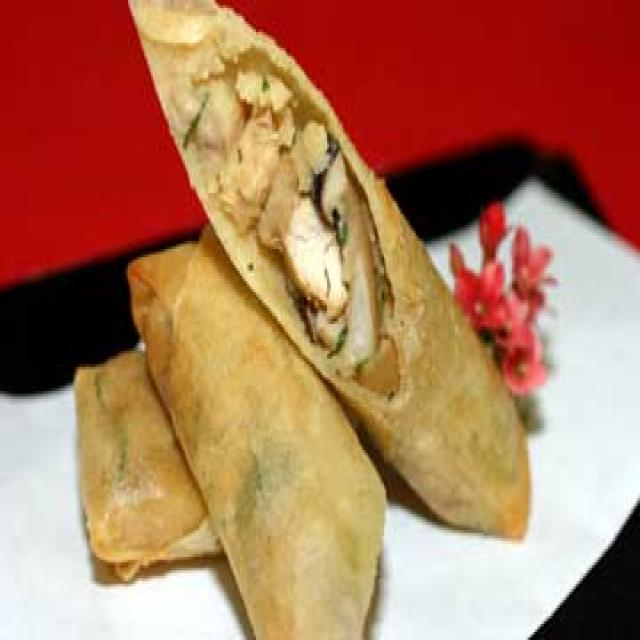鸡蛋料理: (58, 0, 530, 640)
